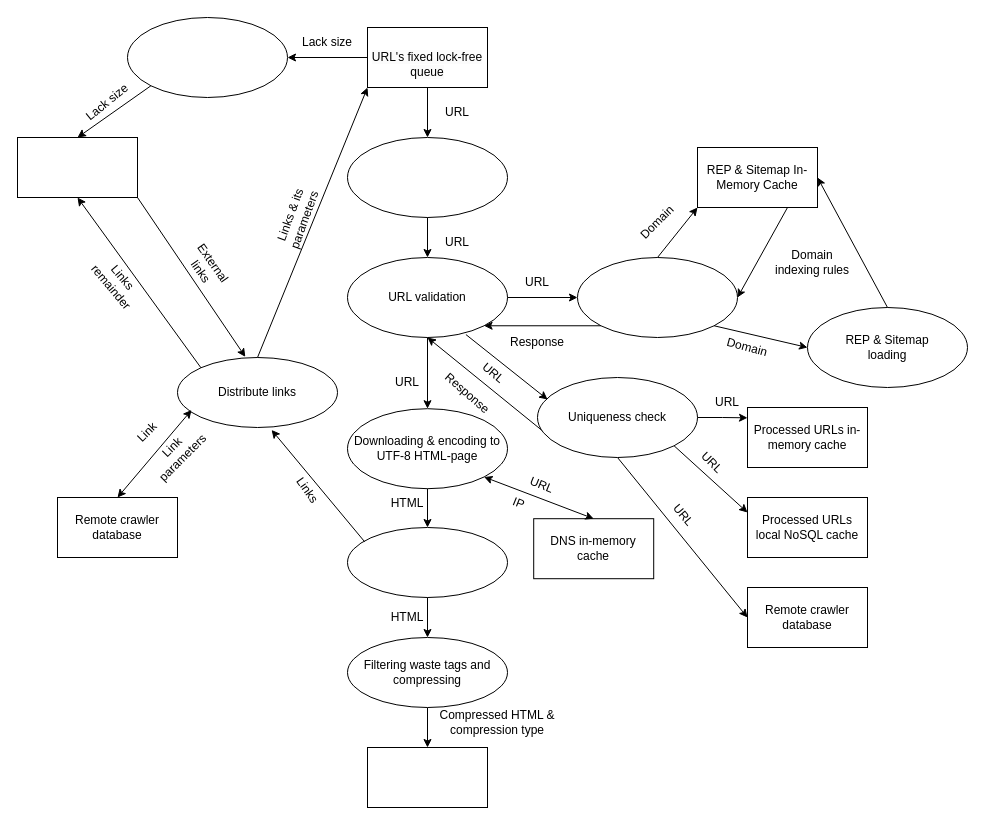
This 985x825 diagram has some shape labels left out. The shapes that lost their labels are listed below. From the top down, each one's box as (x1, y1, x2, y2) in pixels, then its label:
(126, 16, 288, 98): Send queue lack size
(16, 136, 138, 198): Remote master node
(346, 136, 508, 218): Extracting domain & resource
(576, 256, 738, 338): REP & Sitemap validation
(346, 526, 508, 598): Fetching links
(366, 746, 488, 808): Remote message broker
